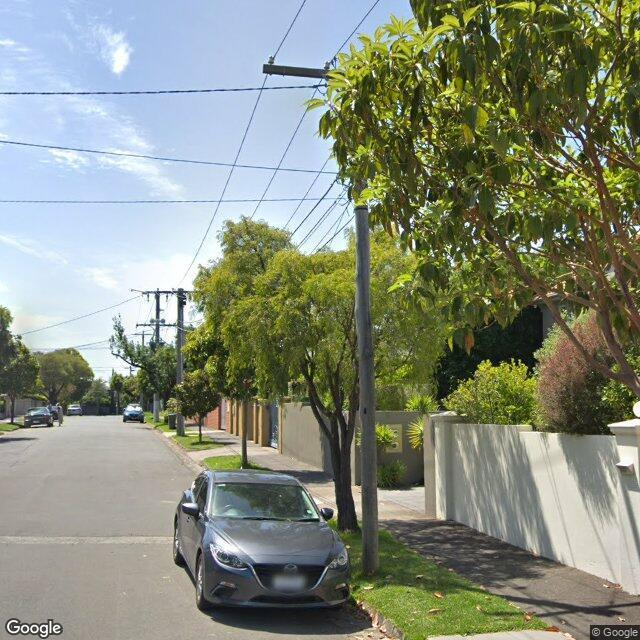HV-transmission: (147, 288, 168, 302)
crossarm: (263, 64, 332, 79), (137, 324, 177, 326), (143, 291, 174, 293), (173, 291, 189, 293), (131, 334, 152, 335)
streetlight: (131, 289, 143, 293)
timber-pole: (354, 205, 378, 578), (178, 288, 185, 436), (156, 290, 160, 349), (142, 330, 144, 346), (130, 366, 131, 374)
